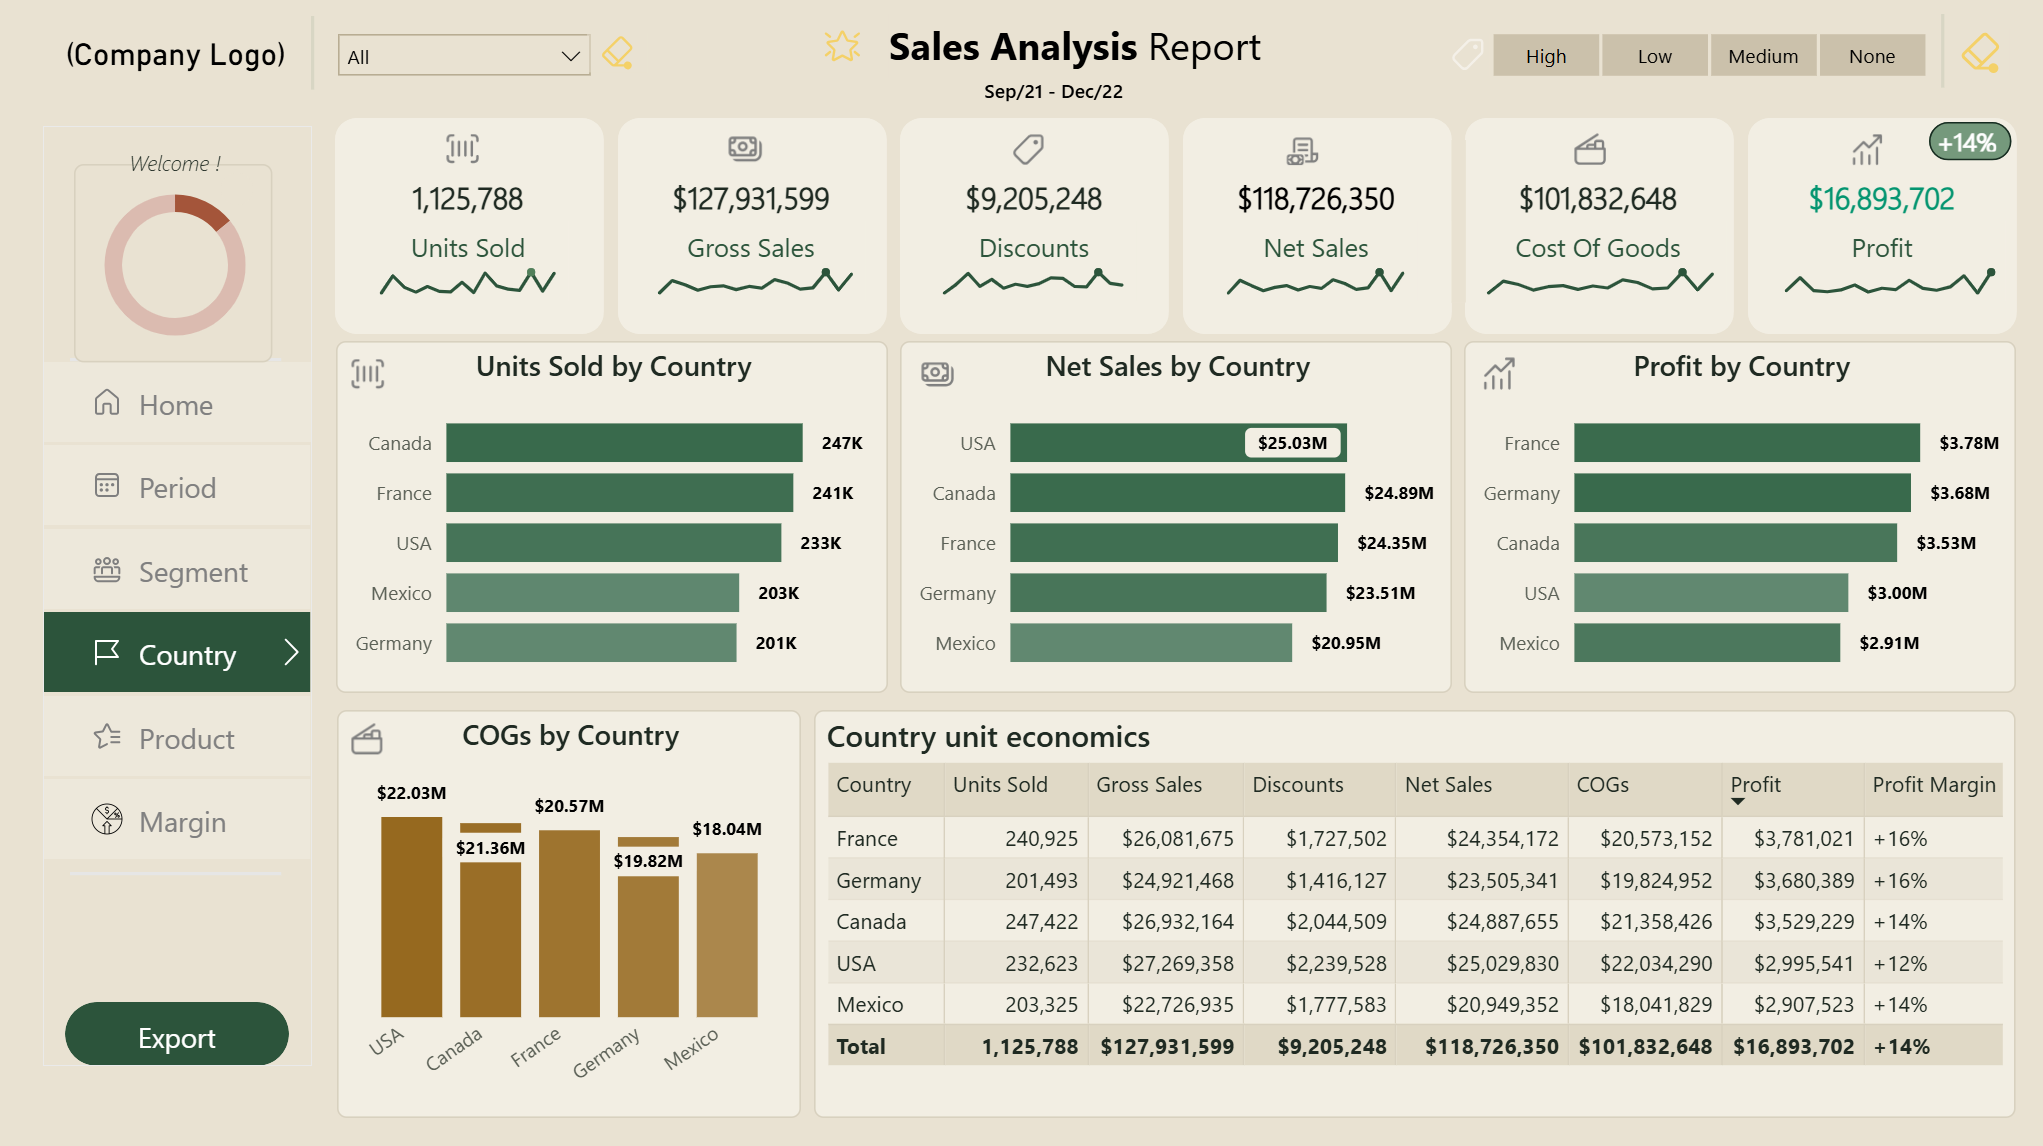

Layout of this report page (visuals, bound fields, positions):
{"tool":"powerbi","page":{"name":"Sales Analysis","canvas":[1280,720],"ordinal":1},"visuals":[{"type":"textbox","title":"Text box Title","box":[552,9.3,307.6,46.1],"z":0,"group":"g6"},{"type":"shape","title":"Shape _Profit_YOY","box":[1207.2,79.2,51.5,24],"z":0,"group":"g3"},{"type":"pivotTable","fields":{"Rows":["DIM_MANAGERS.Image URL"]},"box":[67.1,121.2,85,85],"z":0,"group":"g5"},{"type":"clusteredBarChart","title":"Units Sold by Product","fields":{"Category":["FACT_SALES.Product"],"Y":["Measure.M_Units Sold"]},"box":[211,216,345,223],"z":0,"group":"g2"},{"type":"actionButton","title":"Button_Product_active","box":[28,438,167.1,50],"z":0,"group":"g1"},{"type":"actionButton","title":"Button_Export","box":[42,629.2,140,40],"z":0,"group":"g4"},{"type":"shape","box":[1093.6,77.1,168,135],"z":500},{"type":"textbox","title":"Text box Logo","box":[28.6,20.7,164.6,37],"z":1000,"group":"g6"},{"type":"cardVisual","title":"Card_Profit_YOY","fields":{"Data":["Measure.M_Profit Margin Formatted"]},"box":[1195.1,71.8,73.5,31.1],"z":1000,"group":"g3"},{"type":"shape","box":[65.7,126.9,85.7,85.7],"z":1000,"group":"g5"},{"type":"clusteredBarChart","title":"Net Sales by Product","fields":{"Category":["FACT_SALES.Product"],"Y":["Measure.M_Net Sales"]},"box":[563.6,216,345,223],"z":1000,"group":"g2"},{"type":"actionButton","title":"Button arrow","box":[165.1,438,30,50],"z":1000,"group":"g1"},{"type":"shape","title":"Shape_Bottom_Nav_divider","box":[45,533.2,132,32],"z":1000,"group":"g4"},{"type":"slicer","title":"Slicer_Discount_Band","fields":{"Values":["FACT_SALES.Discount Band"]},"box":[908.4,17.5,319.7,40.4],"z":2000,"group":"g6"},{"type":"donutChart","title":"Donut Chart Profit Margin and Profit Margin Difference","fields":{"Y":["Measure.M_Profit Margin","Measure.M_100% Minus Profit Margin"]},"box":[47.1,105.5,124.3,124.3],"z":2000,"group":"g5"},{"type":"pivotTable","title":"Spark_Profit","fields":{"Values":["SparklineData(Measure.M_Profit_[DIM_DATE.YearMonth])"]},"box":[1089.1,136.2,171.9,61.9],"z":2000,"group":"g3"},{"type":"shape","title":"Shape_Top_Nav_divider","box":[45,212.2,132,32],"z":2000,"group":"g4"},{"type":"clusteredBarChart","title":"Profit by Product","fields":{"Category":["FACT_SALES.Product Name (Short)"],"Y":["Measure.M_Profit"]},"box":[916.3,216,345,223],"z":2000,"group":"g2"},{"type":"slicer","title":"Slicer Managers","fields":{"Values":["DIM_MANAGERS.Manager Name"]},"box":[202,14.5,177.6,44.3],"z":3000,"group":"g6"},{"type":"shape","title":"Shape Hide Scrol","box":[139.2,111.2,20,20],"z":3000,"group":"g5"},{"type":"pivotTable","title":"Spark_COG","fields":{"Values":["SparklineData(Measure.M_Cost Of Goods_[DIM_DATE.YearMonth])"]},"box":[903,136.2,183.1,60.6],"z":3000,"group":"g3"},{"type":"clusteredColumnChart","title":"COGs by Product","fields":{"Category":["FACT_SALES.Product Name (Short)"],"Y":["Measure.M_Cost Of Goods"]},"box":[211.6,447,290,255],"z":3000,"group":"g2"},{"type":"actionButton","title":"Button_Help","box":[28,490.2,167.1,50],"z":3000,"group":"g4"},{"type":"tableEx","title":"Product unit economics","fields":{"Values":["FACT_SALES.Product","Measure.M_Units Sold","Measure.M_Gross Sales","Measure.M_Discounts","Measure.M_Net Sales"]},"box":[509.8,447,751.4,255],"z":3500,"group":"g2"},{"type":"actionButton","title":"Button Clear Managers","box":[368.2,23.4,37.6,24.6],"z":4000,"group":"g6"},{"type":"shape","box":[917,77.1,168,135],"z":4000},{"type":"cardVisual","title":"Card Welcome","fields":{"Data":["Measure.M_User Greeting"]},"box":[33.3,82,154.4,36.7],"z":4000,"group":"g5"},{"type":"pivotTable","title":"Spark_Net_Sales","fields":{"Values":["SparklineData(Measure.M_Net Sales_[DIM_DATE.YearMonth])"]},"box":[739.9,136.2,169.3,61.9],"z":4000,"group":"g3"},{"type":"group","id":"g1","title":"Button_Product_active","box":[28,438,167.1,50],"z":4000,"group":"g4"},{"type":"shape","box":[740.5,77.1,168,135],"z":4625},{"type":"actionButton","title":"Button Title Icon","box":[498.9,12,57.9,40],"z":5000,"group":"g6"},{"type":"pivotTable","title":"Spark_Dscounts","fields":{"Values":["SparklineData(Measure.M_Discounts_[DIM_DATE.YearMonth])"]},"box":[562.7,136.2,169.3,61.9],"z":5000,"group":"g3"},{"type":"shape","box":[563.9,77.1,168,135],"z":5250},{"type":"shape","box":[387.4,77.1,168,135],"z":5375},{"type":"shape","box":[210.8,77.1,168,135],"z":5500},{"type":"cardVisual","title":"Card Date Range","fields":{"Data":["Measure.M_Date Selection"]},"box":[599.4,39.3,121.9,32.9],"z":6000,"group":"g6"},{"type":"pivotTable","title":"Spark_Gross_Sales","fields":{"Values":["SparklineData(Measure.M_Gross Sales_[DIM_DATE.YearMonth])"]},"box":[384.8,136.2,171.3,61.9],"z":6000,"group":"g3"},{"type":"pivotTable","title":"Spark_Unit_Sold","fields":{"Values":["SparklineData(Measure.M_Units Sold_[DIM_DATE.YearMonth])"]},"box":[210.8,136.2,167.3,61.9],"z":6500,"group":"g3"},{"type":"actionButton","title":"Button Discount icon","box":[904.2,24.4,28.2,26.6],"z":7000,"group":"g6"},{"type":"cardVisual","title":"Card_Profit","fields":{"Data":["Measure.M_Profit"]},"box":[1090,95.3,175,90],"z":7000,"group":"g3"},{"type":"group","id":"g2","title":"Product","box":[211,216,1050.3,486],"z":7000},{"type":"actionButton","title":"Button_Country","box":[28,385.8,167.1,50],"z":7000,"group":"g4"},{"type":"actionButton","title":"Button Clear Discount","box":[1220.7,21.4,36.9,29.5],"z":8000,"group":"g6"},{"type":"cardVisual","title":"Card_COG","fields":{"Data":["Measure.M_Cost Of Goods"]},"box":[920,95.3,160,90],"z":8000,"group":"g3"},{"type":"shape","title":"Divider Line Left","box":[182.4,12.8,28.3,46.1],"z":9000,"group":"g6"},{"type":"cardVisual","title":"Card_Net_Sales","fields":{"Data":["Measure.M_Net Sales"]},"box":[744,95.3,160,90],"z":9000,"group":"g3"},{"type":"actionButton","title":"Button_Segment","box":[28,333.6,167.1,50],"z":9000,"group":"g4"},{"type":"shape","title":"Divider Line Right","box":[1205.8,12,18.4,46.1],"z":10000,"group":"g6"},{"type":"cardVisual","title":"Card_Discount","fields":{"Data":["Measure.M_Discounts"]},"box":[568,95.3,160,90],"z":10000,"group":"g3"},{"type":"cardVisual","title":"Card_Gross_Sales","fields":{"Data":["Measure.M_Gross Sales"]},"box":[391,95.3,160,90],"z":11000,"group":"g3"},{"type":"actionButton","box":[28,281.4,167.1,50],"z":11000,"group":"g4"},{"type":"group","id":"g3","title":"Static","box":[210.8,71.8,1057.9,408.4],"z":12000},{"type":"cardVisual","title":"Card_Unit_Sold","fields":{"Data":["Measure.M_Units Sold"]},"box":[214,95.3,160,90],"z":12000,"group":"g3"},{"type":"actionButton","title":"Button_Home","box":[28,229.2,168,50],"z":12000,"group":"g4"},{"type":"group","id":"g4","title":"Navigation","box":[28,82,168,587.2],"z":13000},{"type":"group","id":"g5","title":"Group_Mgr Image","box":[33.3,82,154.4,147.8],"z":13000,"group":"g4"},{"type":"group","id":"g6","title":"Header","box":[28.6,9.3,1228.9,62.9],"z":14000},{"type":"actionButton","title":"Button_Profit","box":[1152.5,81.3,33.1,30.9],"z":14000,"group":"g3"},{"type":"actionButton","title":"Button_COG","box":[979.5,80.8,33.6,31.4],"z":15000,"group":"g3"},{"type":"actionButton","title":"Button_Net_Sales","box":[800.9,81.3,33.1,30.9],"z":16000,"group":"g3"},{"type":"shape","box":[907,90.5,12.1,101.6],"z":16000},{"type":"actionButton","title":"Button_Discount","box":[628.1,81,32.9,31.2],"z":17000,"group":"g3"},{"type":"actionButton","title":"Button_Gross_Sales","box":[450.9,79.4,33.6,32.9],"z":18000,"group":"g3"},{"type":"actionButton","title":"Button_Unit_Sold","box":[274.5,80.2,32.3,32],"z":19000,"group":"g3"},{"type":"actionButton","title":"Button_COG","box":[215.2,449.1,32.6,31.1],"z":20000,"group":"g3"},{"type":"actionButton","title":"Button_Profit","box":[922.2,220.5,32.6,32],"z":21000,"group":"g3"},{"type":"actionButton","title":"Button_Gross_Sales","box":[571.5,220.5,32.6,32],"z":22000,"group":"g3"},{"type":"actionButton","title":"Button_Unit_Sold","box":[215.2,220.5,32.6,32.2],"z":23000,"group":"g3"}]}

Visuals, with their boxes in screenshot pixels (x1, y1, x2, y2), scaled from the page's 1280x720 canvas onto the 2043x1146 screenshot:
"Text box Title" textbox: [left=881, top=15, right=1372, bottom=88]
"Shape _Profit_YOY" shape: [left=1927, top=126, right=2009, bottom=164]
pivotTable - DIM_MANAGERS.Image URL: [left=107, top=193, right=243, bottom=328]
"Units Sold by Product" clusteredBarChart: [left=337, top=344, right=887, bottom=699]
"Button_Product_active" actionButton: [left=45, top=697, right=311, bottom=777]
"Button_Export" actionButton: [left=67, top=1001, right=290, bottom=1065]
shape: [left=1745, top=123, right=2014, bottom=338]
"Text box Logo" textbox: [left=46, top=33, right=308, bottom=92]
"Card_Profit_YOY" cardVisual: [left=1907, top=114, right=2025, bottom=164]
shape: [left=105, top=202, right=242, bottom=338]
"Net Sales by Product" clusteredBarChart: [left=900, top=344, right=1450, bottom=699]
"Button arrow" actionButton: [left=264, top=697, right=311, bottom=777]
"Shape_Bottom_Nav_divider" shape: [left=72, top=849, right=283, bottom=900]
"Slicer_Discount_Band" slicer: [left=1450, top=28, right=1960, bottom=92]
"Donut Chart Profit Margin and Profit Margin Difference" donutChart: [left=75, top=168, right=274, bottom=366]
"Spark_Profit" pivotTable: [left=1738, top=217, right=2013, bottom=315]
"Shape_Top_Nav_divider" shape: [left=72, top=338, right=283, bottom=389]
"Profit by Product" clusteredBarChart: [left=1463, top=344, right=2013, bottom=699]
"Slicer Managers" slicer: [left=322, top=23, right=606, bottom=94]
"Shape Hide Scrol" shape: [left=222, top=177, right=254, bottom=209]
"Spark_COG" pivotTable: [left=1441, top=217, right=1734, bottom=313]
"COGs by Product" clusteredColumnChart: [left=338, top=711, right=801, bottom=1117]
"Button_Help" actionButton: [left=45, top=780, right=311, bottom=860]
"Product unit economics" tableEx: [left=814, top=711, right=2013, bottom=1117]
"Button Clear Managers" actionButton: [left=588, top=37, right=648, bottom=76]
shape: [left=1464, top=123, right=1732, bottom=338]
"Card Welcome" cardVisual: [left=53, top=131, right=300, bottom=189]
"Spark_Net_Sales" pivotTable: [left=1181, top=217, right=1451, bottom=315]
"Button_Product_active" group: [left=45, top=697, right=311, bottom=777]
shape: [left=1182, top=123, right=1450, bottom=338]
"Button Title Icon" actionButton: [left=796, top=19, right=889, bottom=83]
"Spark_Dscounts" pivotTable: [left=898, top=217, right=1168, bottom=315]
shape: [left=900, top=123, right=1168, bottom=338]
shape: [left=618, top=123, right=886, bottom=338]
shape: [left=336, top=123, right=605, bottom=338]
"Card Date Range" cardVisual: [left=957, top=63, right=1151, bottom=115]
"Spark_Gross_Sales" pivotTable: [left=614, top=217, right=888, bottom=315]
"Spark_Unit_Sold" pivotTable: [left=336, top=217, right=603, bottom=315]
"Button Discount icon" actionButton: [left=1443, top=39, right=1488, bottom=81]
"Card_Profit" cardVisual: [left=1740, top=152, right=2019, bottom=295]
"Product" group: [left=337, top=344, right=2013, bottom=1117]
"Button_Country" actionButton: [left=45, top=614, right=311, bottom=694]
"Button Clear Discount" actionButton: [left=1948, top=34, right=2007, bottom=81]
"Card_COG" cardVisual: [left=1468, top=152, right=1724, bottom=295]
"Divider Line Left" shape: [left=291, top=20, right=336, bottom=94]
"Card_Net_Sales" cardVisual: [left=1187, top=152, right=1443, bottom=295]
"Button_Segment" actionButton: [left=45, top=531, right=311, bottom=611]
"Divider Line Right" shape: [left=1925, top=19, right=1954, bottom=92]
"Card_Discount" cardVisual: [left=907, top=152, right=1162, bottom=295]
"Card_Gross_Sales" cardVisual: [left=624, top=152, right=879, bottom=295]
actionButton: [left=45, top=448, right=311, bottom=527]
"Static" group: [left=336, top=114, right=2025, bottom=764]
"Card_Unit_Sold" cardVisual: [left=342, top=152, right=597, bottom=295]
"Button_Home" actionButton: [left=45, top=365, right=313, bottom=444]
"Navigation" group: [left=45, top=131, right=313, bottom=1065]
"Group_Mgr Image" group: [left=53, top=131, right=300, bottom=366]
"Header" group: [left=46, top=15, right=2007, bottom=115]
"Button_Profit" actionButton: [left=1839, top=129, right=1892, bottom=179]
"Button_COG" actionButton: [left=1563, top=129, right=1617, bottom=179]
"Button_Net_Sales" actionButton: [left=1278, top=129, right=1331, bottom=179]
shape: [left=1448, top=144, right=1467, bottom=306]
"Button_Discount" actionButton: [left=1003, top=129, right=1055, bottom=179]
"Button_Gross_Sales" actionButton: [left=720, top=126, right=773, bottom=179]
"Button_Unit_Sold" actionButton: [left=438, top=128, right=490, bottom=179]
"Button_COG" actionButton: [left=343, top=715, right=396, bottom=764]
"Button_Profit" actionButton: [left=1472, top=351, right=1524, bottom=402]
"Button_Gross_Sales" actionButton: [left=912, top=351, right=964, bottom=402]
"Button_Unit_Sold" actionButton: [left=343, top=351, right=396, bottom=402]
